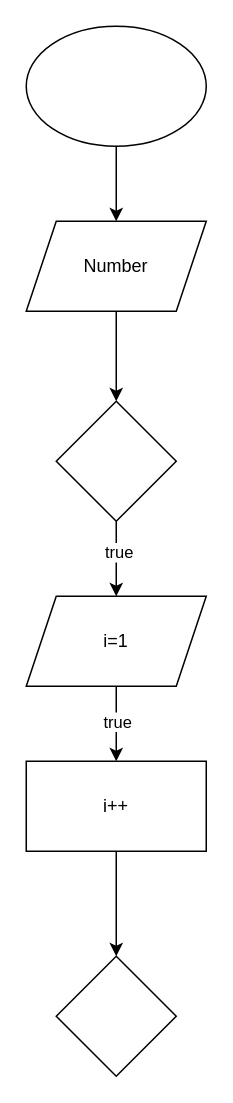
Image size: 233x1103. Some labels were removed from this diagram. The box of each missing label's shape, as (x1, y1, x2, y2) in pixels:
i<=100: (55, 400, 176, 521)
Start: (25, 25, 206, 146)
